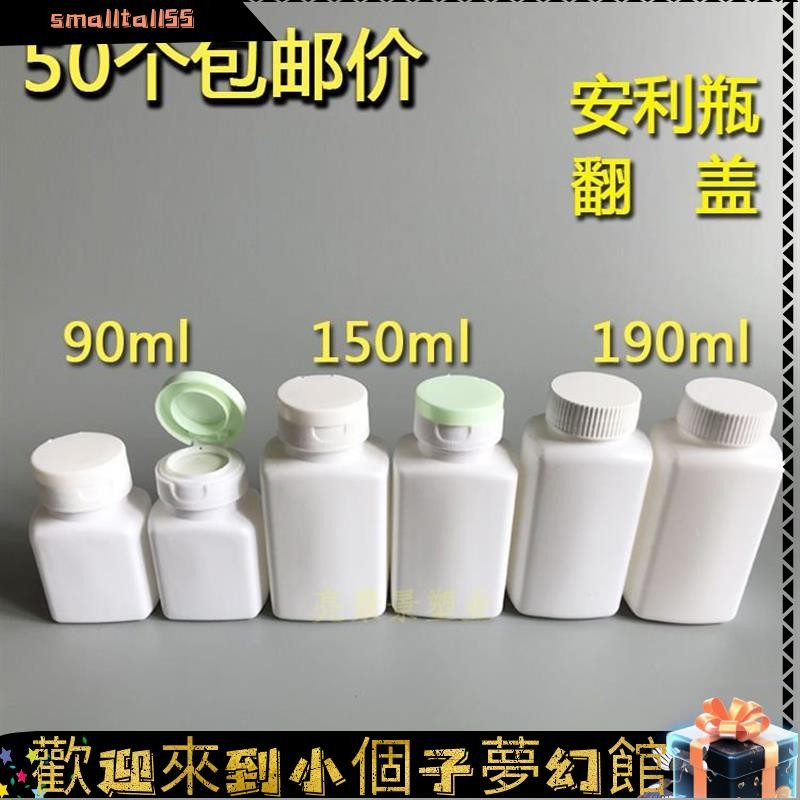medicinejar: (624, 369, 794, 631), (375, 369, 528, 635), (500, 365, 654, 625), (259, 367, 388, 632), (16, 423, 156, 635), (154, 375, 258, 635)
